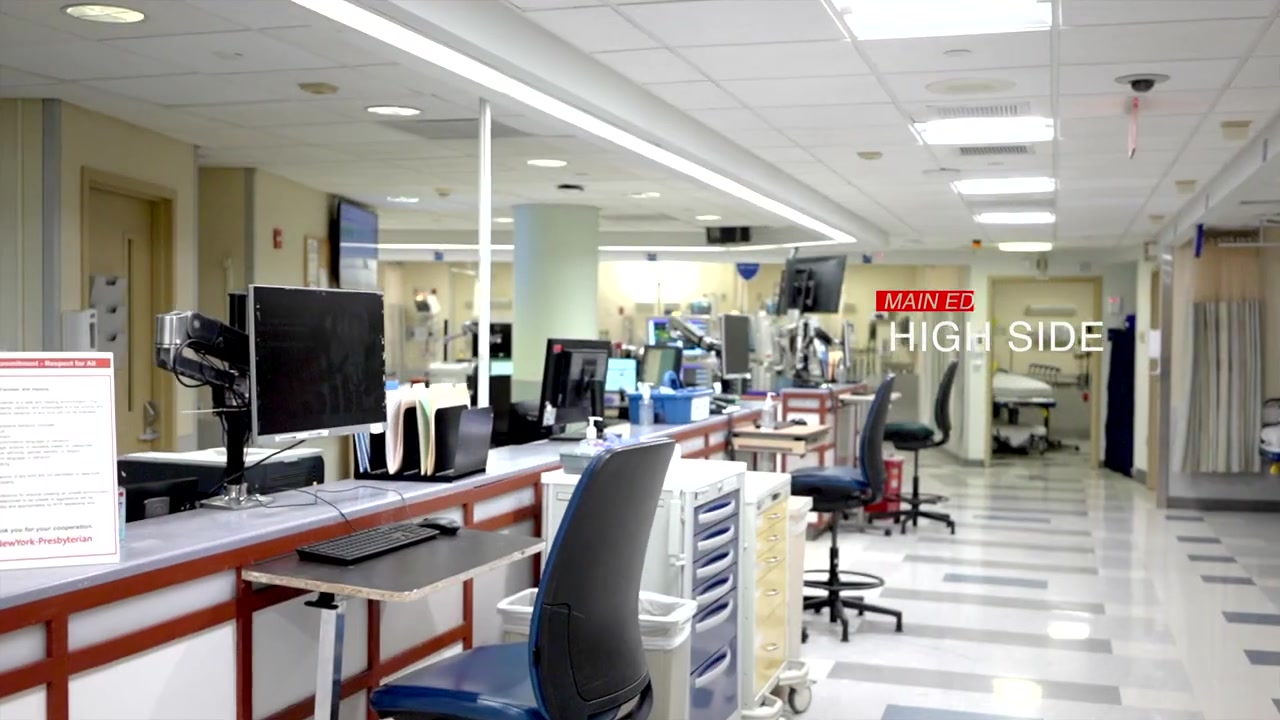TV: (335, 196, 382, 295), (779, 256, 846, 313)
bedrail: (1029, 364, 1059, 381)
chair: (368, 437, 676, 656), (789, 378, 903, 643), (863, 361, 958, 535)
computer: (246, 284, 389, 444), (538, 336, 611, 428), (720, 313, 750, 380), (641, 347, 684, 388)
curtain: (1178, 236, 1267, 474)
dispenser: (64, 310, 101, 354), (638, 382, 653, 424), (1148, 329, 1160, 376), (971, 333, 987, 366), (761, 391, 776, 425)
door_handle: (139, 429, 162, 444)
drawer: (540, 457, 746, 720), (738, 470, 792, 720)
handle: (692, 647, 733, 688), (691, 599, 736, 633), (696, 548, 735, 580), (696, 523, 734, 550), (697, 500, 736, 523), (698, 581, 736, 603), (760, 554, 786, 568), (763, 533, 783, 542), (765, 589, 782, 597), (765, 642, 780, 651), (766, 514, 783, 519)
hospital_bed: (992, 365, 1058, 455)
keyboard: (296, 523, 440, 567)
mouse: (417, 516, 461, 536), (790, 415, 808, 426)
waste_bin: (496, 587, 698, 720), (788, 494, 812, 658), (865, 453, 904, 513)
